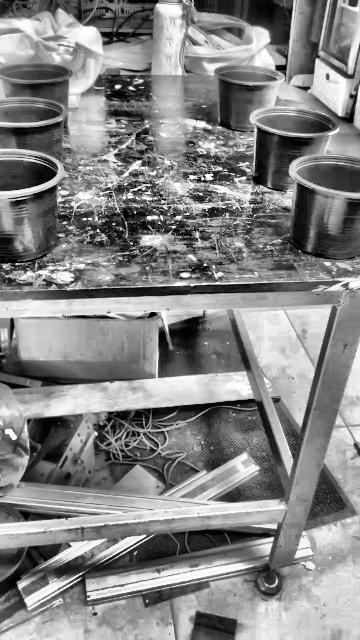pot: (289, 155, 360, 262), (0, 149, 64, 266), (250, 106, 337, 191), (0, 97, 67, 162), (215, 67, 279, 130), (0, 63, 72, 107)
